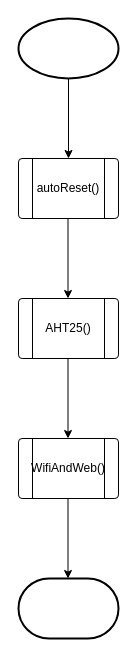
Image size: 136x656. Some labels were removed from this diagram. Here are the shapes that lost their labels. From the top down, the box of each, then its label:
(17, 17, 119, 79): Start
(17, 577, 119, 639): End
